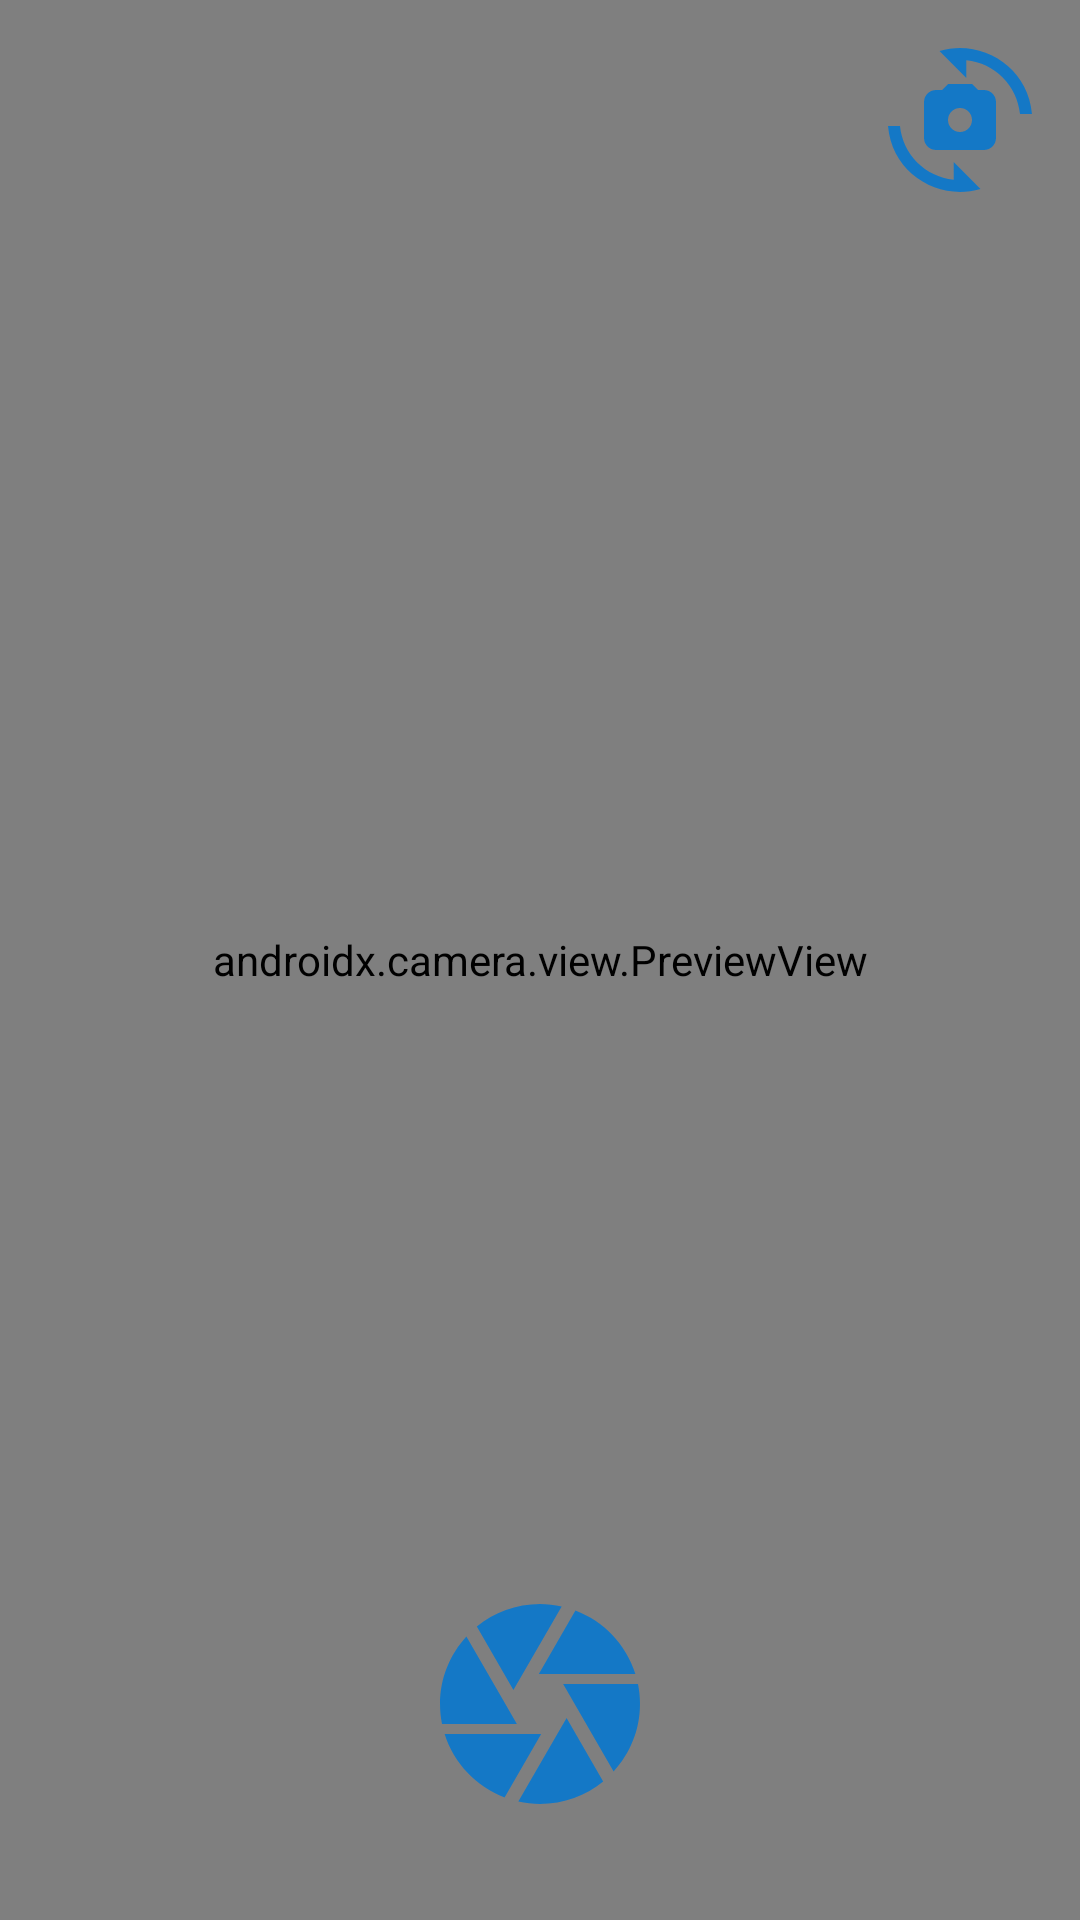

Icons on this 1080px x 1920px Android screen, each with its box as (x1, y1, x2, y2):
camera toggle: (888, 48, 1032, 192)
capture: (440, 1604, 640, 1804)
